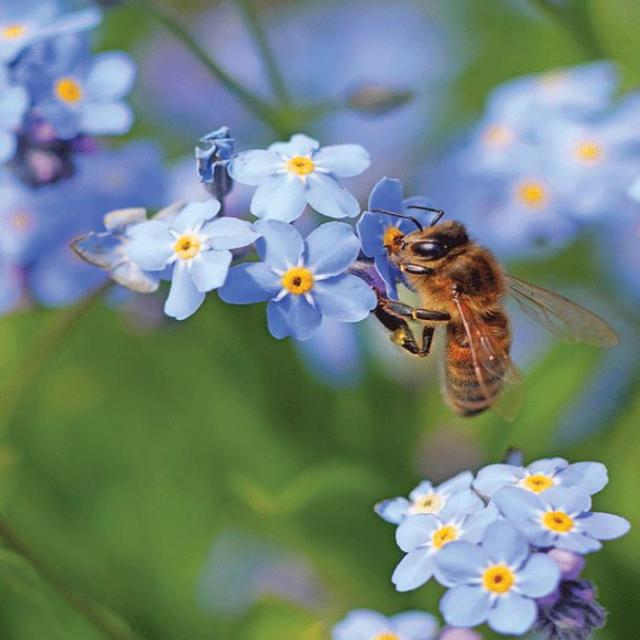honeybee: (380, 205, 621, 417)
